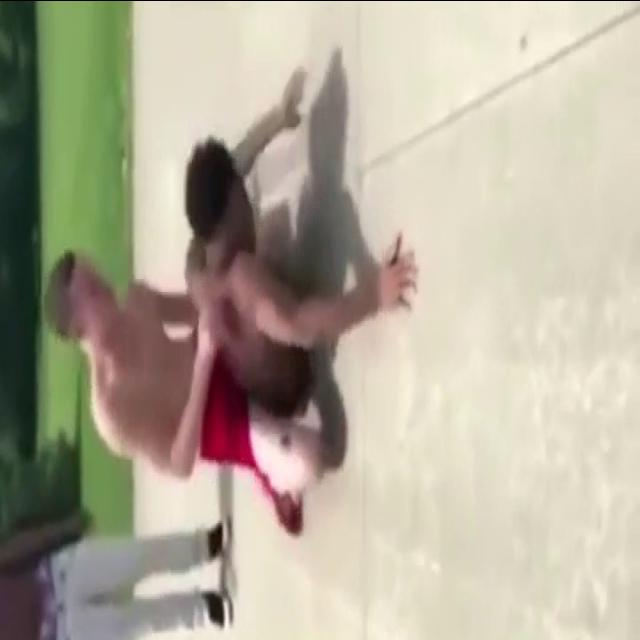Violence: (46, 66, 422, 483)
